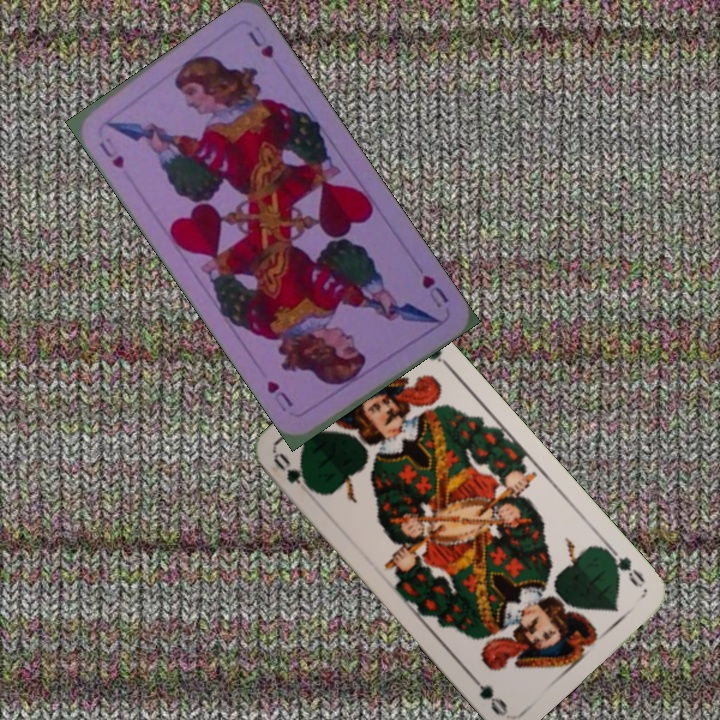GO: (269, 449, 320, 495), (603, 543, 648, 591)
HU: (417, 271, 451, 311), (95, 133, 127, 172)
